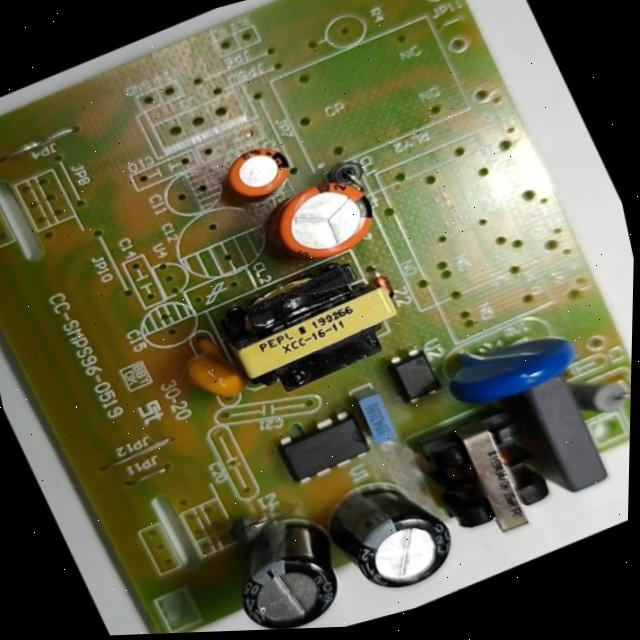Cap1: (247, 156, 395, 282)
Cap2: (209, 129, 304, 212)
Cap3: (304, 452, 476, 618)
Cap4: (197, 492, 362, 632)
MOSFET: (265, 396, 385, 494)
Mov: (425, 301, 595, 425)
Resistor: (559, 356, 632, 429)
Transformer: (196, 239, 422, 417), (396, 388, 574, 567)
